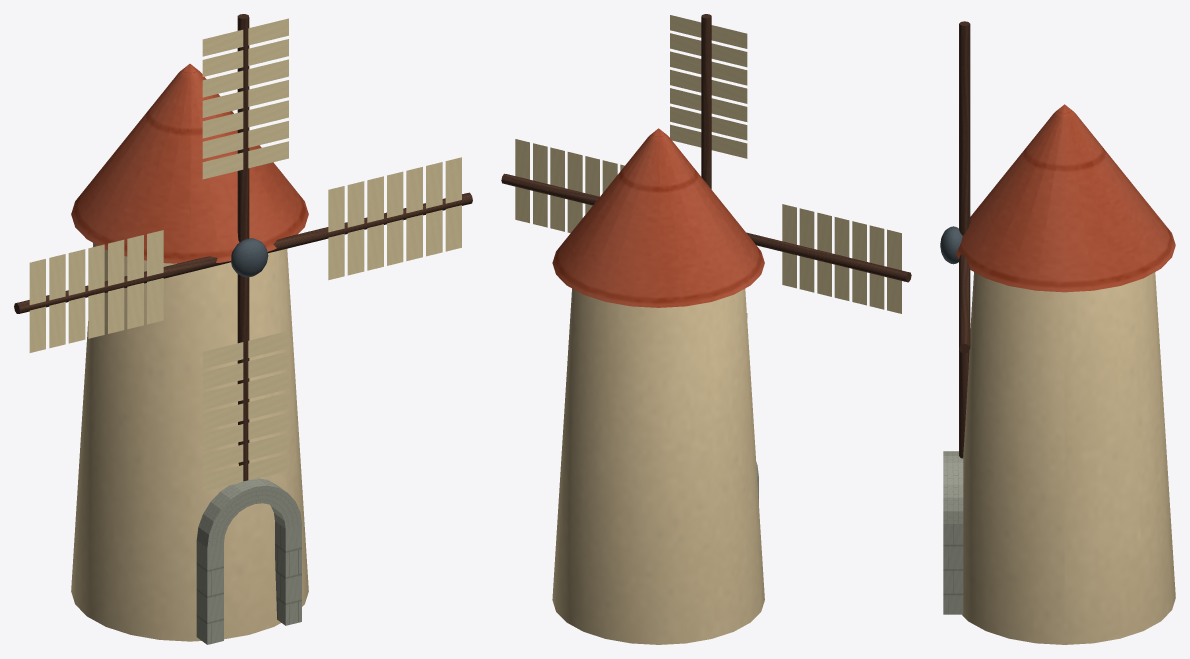
The model's file is windmill.glb.
3 views of the same model, side by side, from view 1: azimuth 30°, elevation 25°; view 2: azimuth 150°, elevation 25°; view 3: azimuth 270°, elevation 25° (orthographic). The views are drawn at different scales.
Visible parts, largest first — view 1: windmill, windmill_sails; view 2: windmill, windmill_sails; view 3: windmill, windmill_sails.
Boxes of the visible parts, bbox=[...] form: windmill: bbox=[71, 64, 308, 644]; windmill_sails: bbox=[14, 14, 472, 491]; windmill: bbox=[552, 128, 764, 644]; windmill_sails: bbox=[501, 14, 911, 317]; windmill: bbox=[943, 104, 1175, 644]; windmill_sails: bbox=[940, 21, 970, 458].
Bounding box in the file's own units: 4.4 × 5.7 × 2.12.
6 materials, 6 textured.
